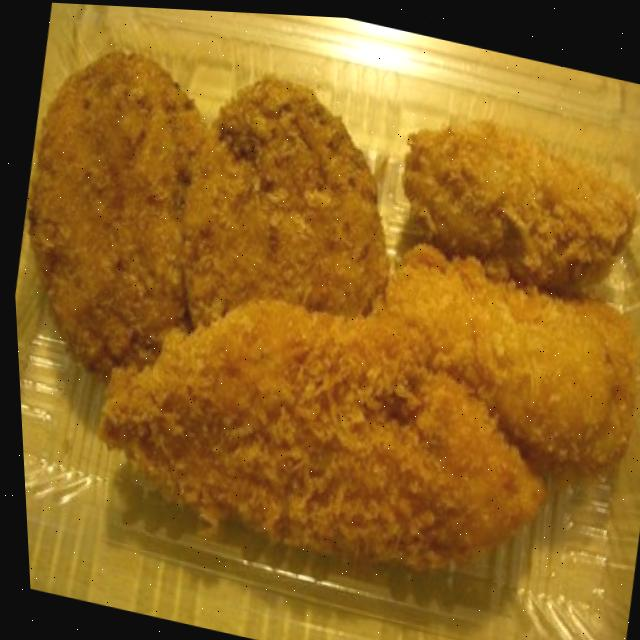炸货点心: (0, 3, 640, 640)
熟制海鲜: (0, 3, 640, 640)
